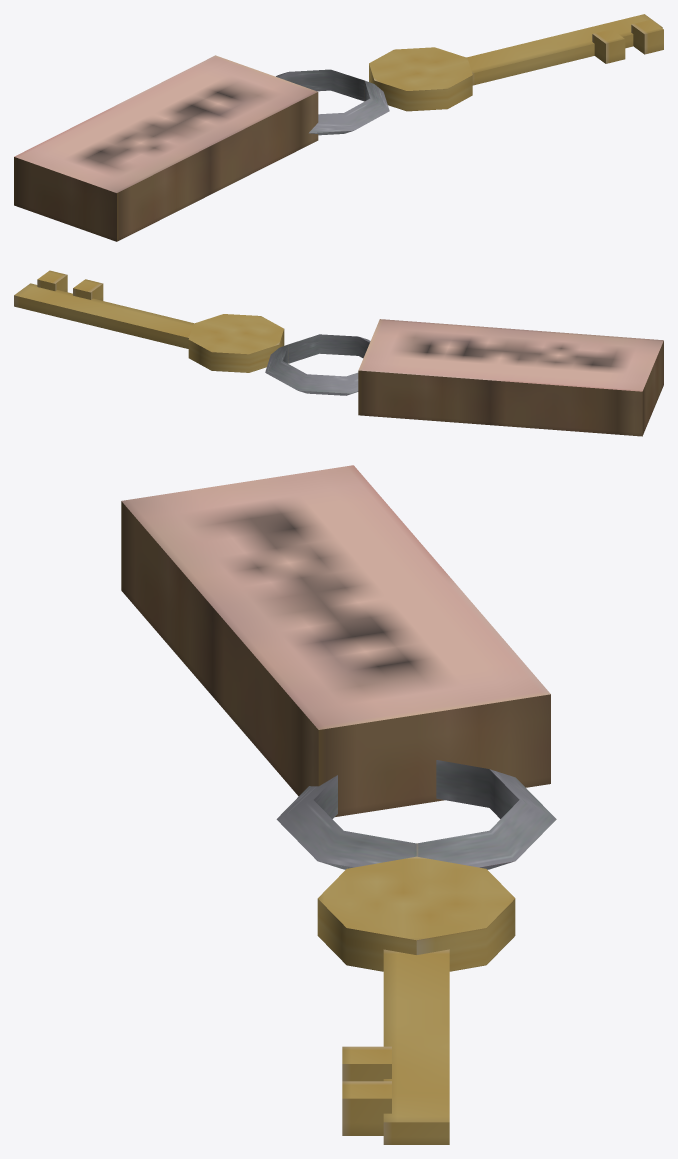
Rendered from key_generator.obj.
The picture shows the model from 3 angles, top to bottom: view 1: azimuth 30°, elevation 25°; view 2: azimuth 150°, elevation 25°; view 3: azimuth 270°, elevation 25°; orthographic projection. The views are drawn at different scales.
Parts seen in each view (by area): view 1: key_generator; view 2: key_generator; view 3: key_generator.
Boxes of the visible parts, <box> form: key_generator: <box>14,14,663,241</box>; key_generator: <box>14,270,663,436</box>; key_generator: <box>121,465,556,1144</box>.
Bounding box in the file's own units: 0.1694 × 0.012 × 0.0528.
1 material, 1 textured.
